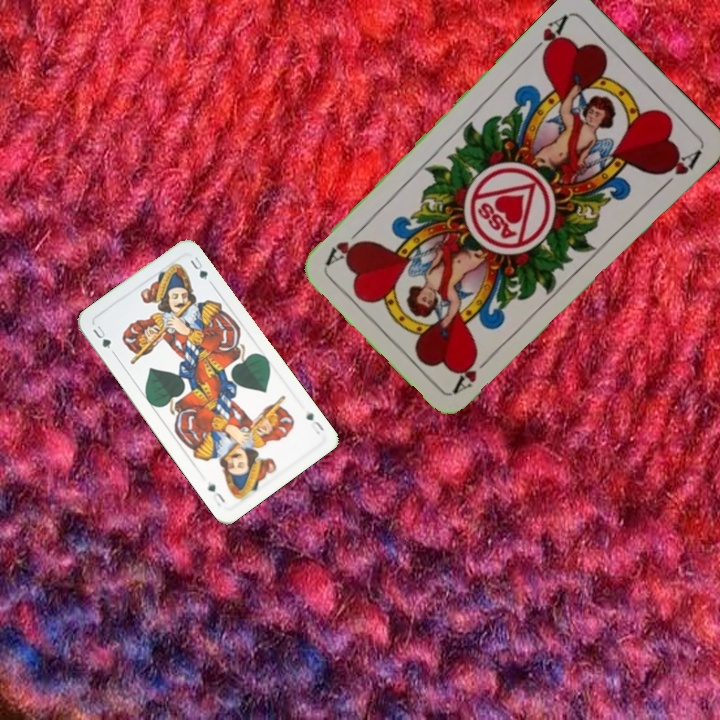GU: (88, 321, 114, 352), (302, 408, 327, 437)
HA: (525, 10, 571, 61), (450, 348, 498, 396)
